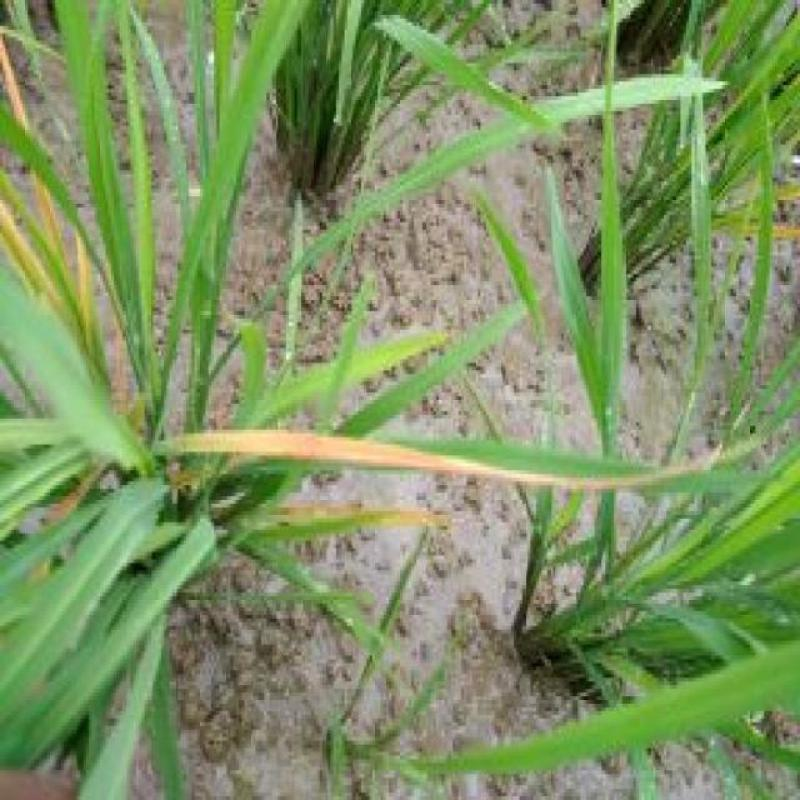Rice Tungro: (190, 420, 712, 482)
